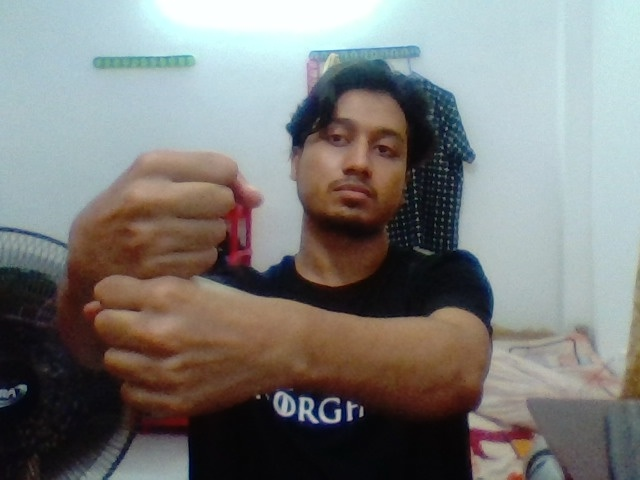G: (70, 132, 271, 380)
